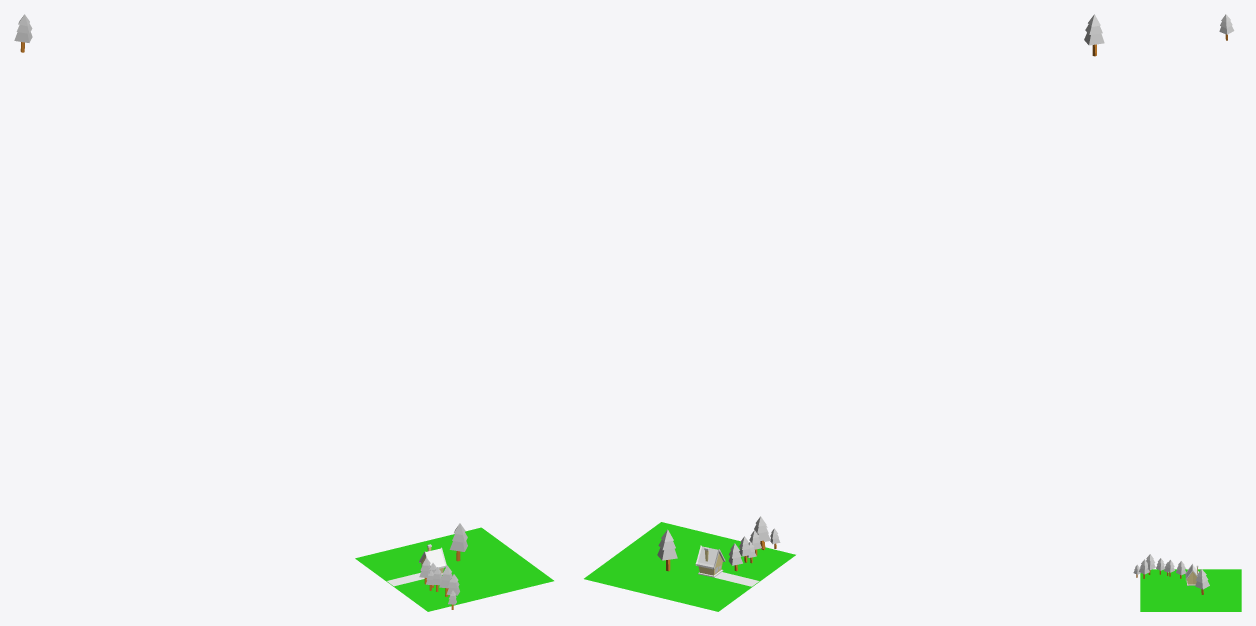
File: forest.glb
3 renders of one model, left to right at view 1: azimuth 30°, elevation 25°; view 2: azimuth 150°, elevation 25°; view 3: azimuth 270°, elevation 25°, orthographic. The views are drawn at different scales.
Visible parts, largest first — view 1: Plane; view 2: Plane; view 3: Plane, Tall Tree.001, Tall Tree.003, House.
Boxes of the visible parts, left/top/right/bottom form: Plane: left=355, top=527, right=553, bottom=611; Plane: left=584, top=522, right=795, bottom=611; Plane: left=1140, top=569, right=1241, bottom=611; Tall Tree.001: left=1219, top=14, right=1234, bottom=40; Tall Tree.003: left=1195, top=569, right=1209, bottom=594; House: left=1185, top=565, right=1198, bottom=585.
Size of the model in its own units: 5676 by 7230 by 1608.
